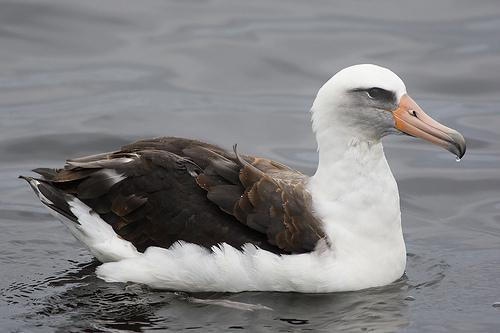002.Laysan_Albatross: (15, 64, 464, 295)
